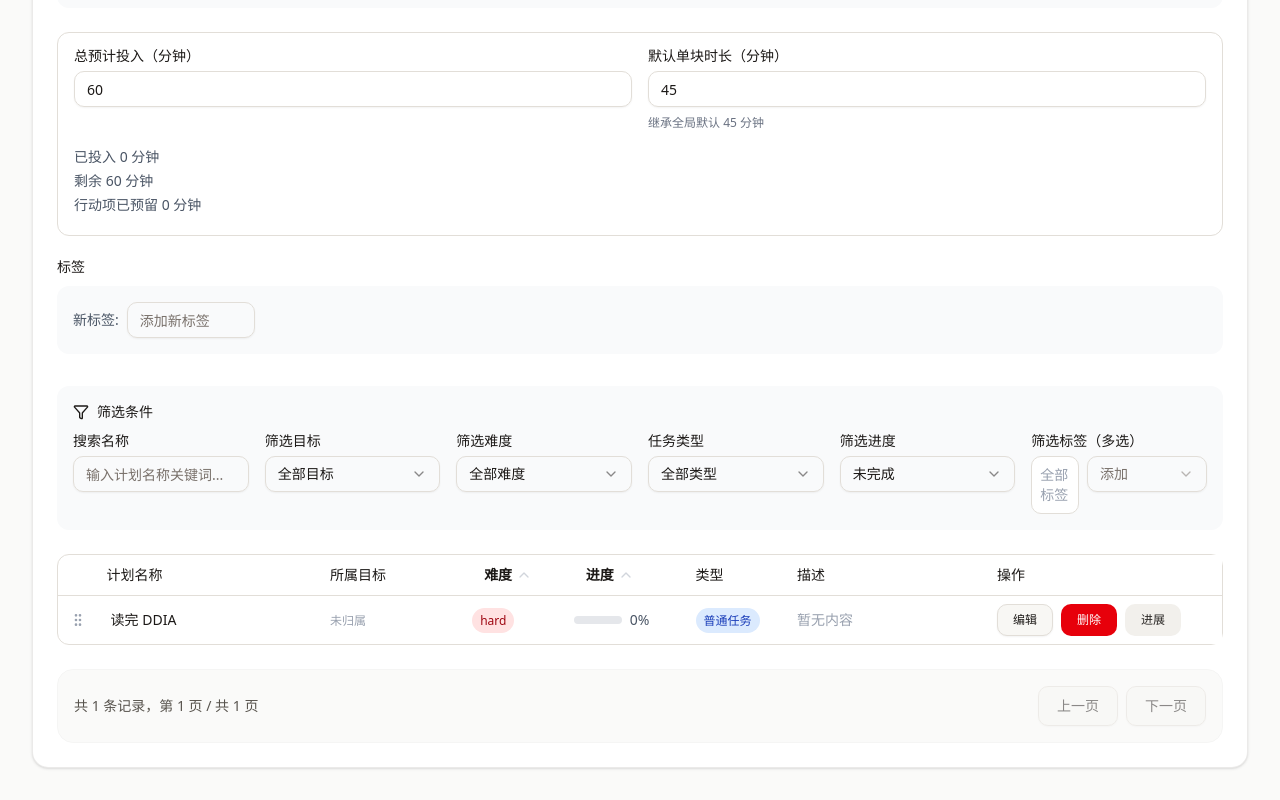
Test case: PlansPage › does not submit an edit with a blank ordinary total
(page scrolled)
Click the button "编辑" at x=1025, y=620, box [997, 604, 1053, 636]
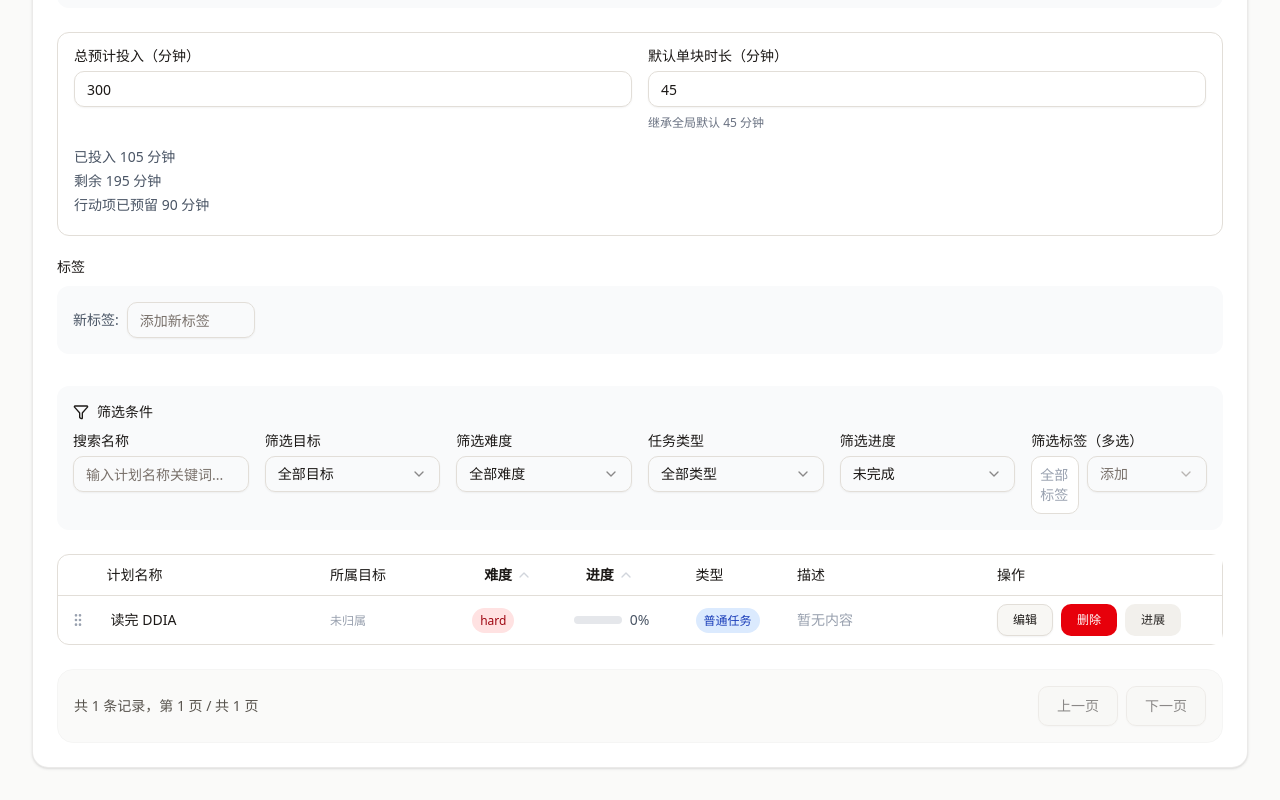
Clear the number field labelled "总预计投入（分钟）" at x=353, y=89, box [74, 71, 632, 107]
(page scrolled)
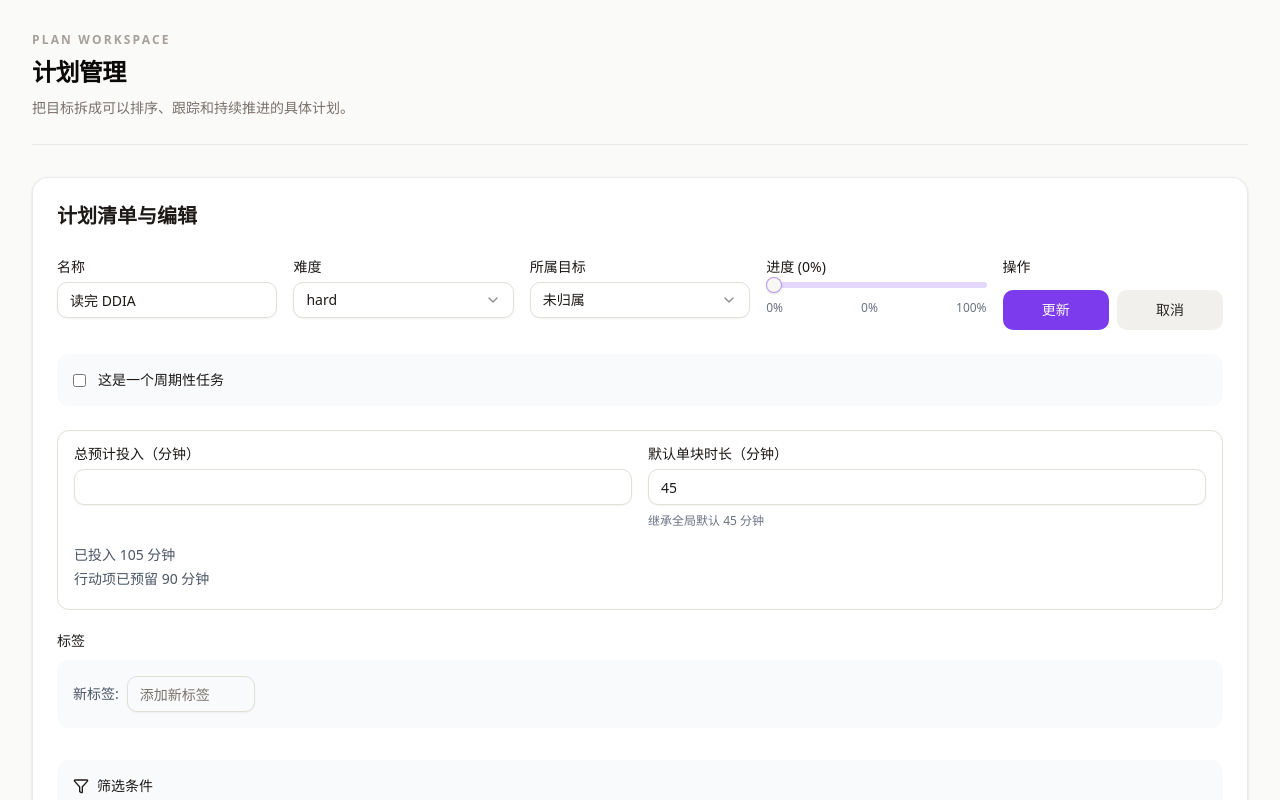
Click the button "更新" at x=1056, y=310, box [1003, 290, 1109, 330]
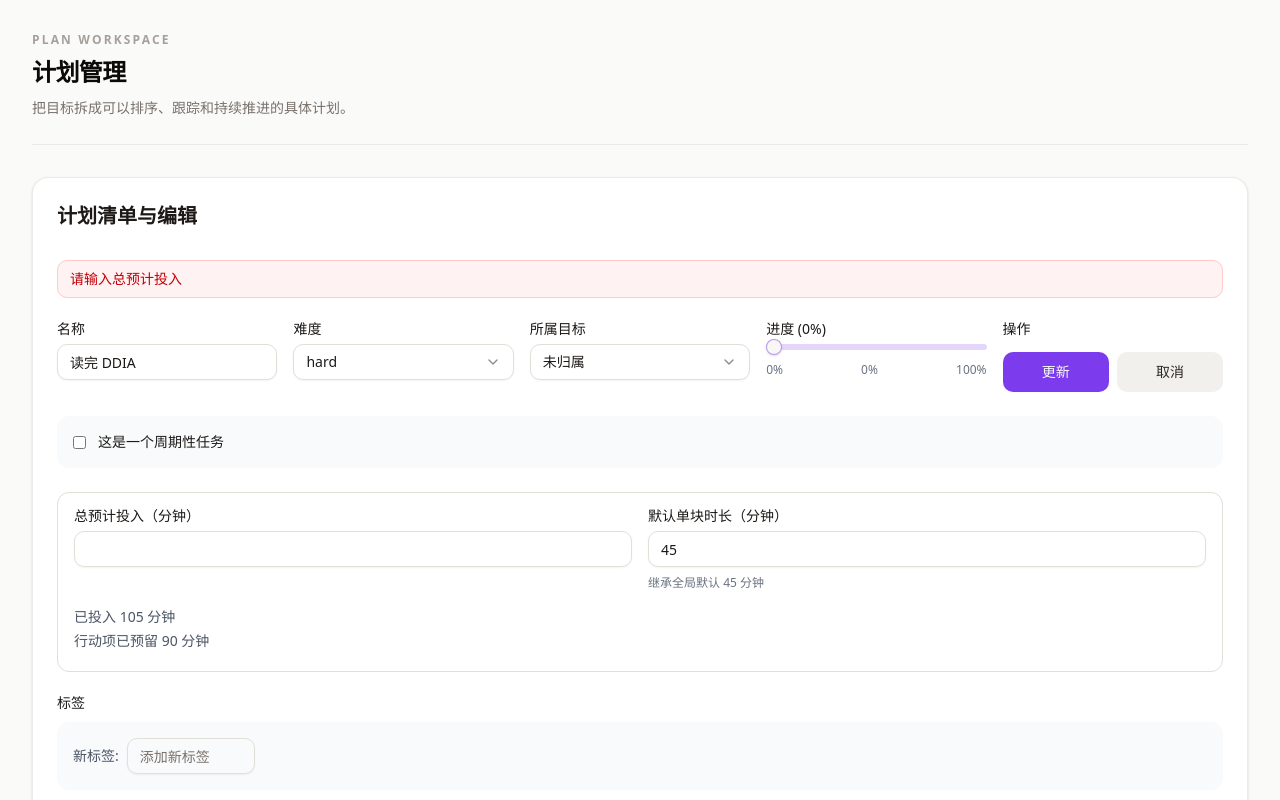
Result: the button "更新" is shown at [1003, 352, 1109, 392]
Result: the message reads "请输入总预计投入" at [70, 269, 182, 288]
